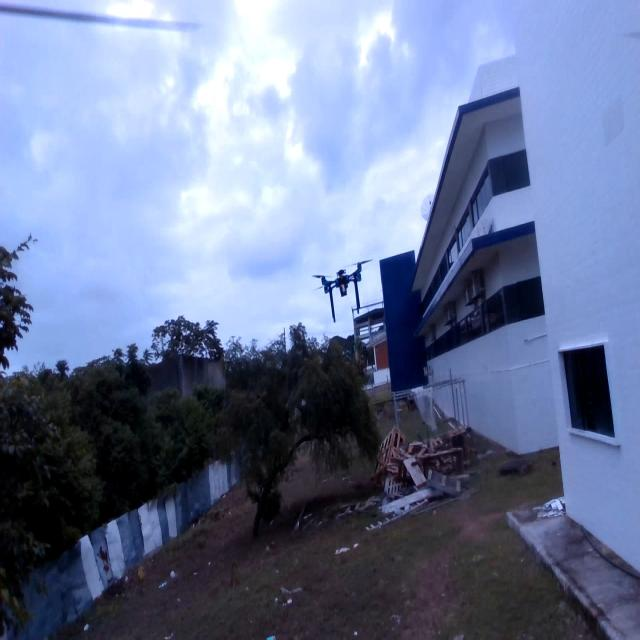-uav-: (306, 249, 381, 326)
